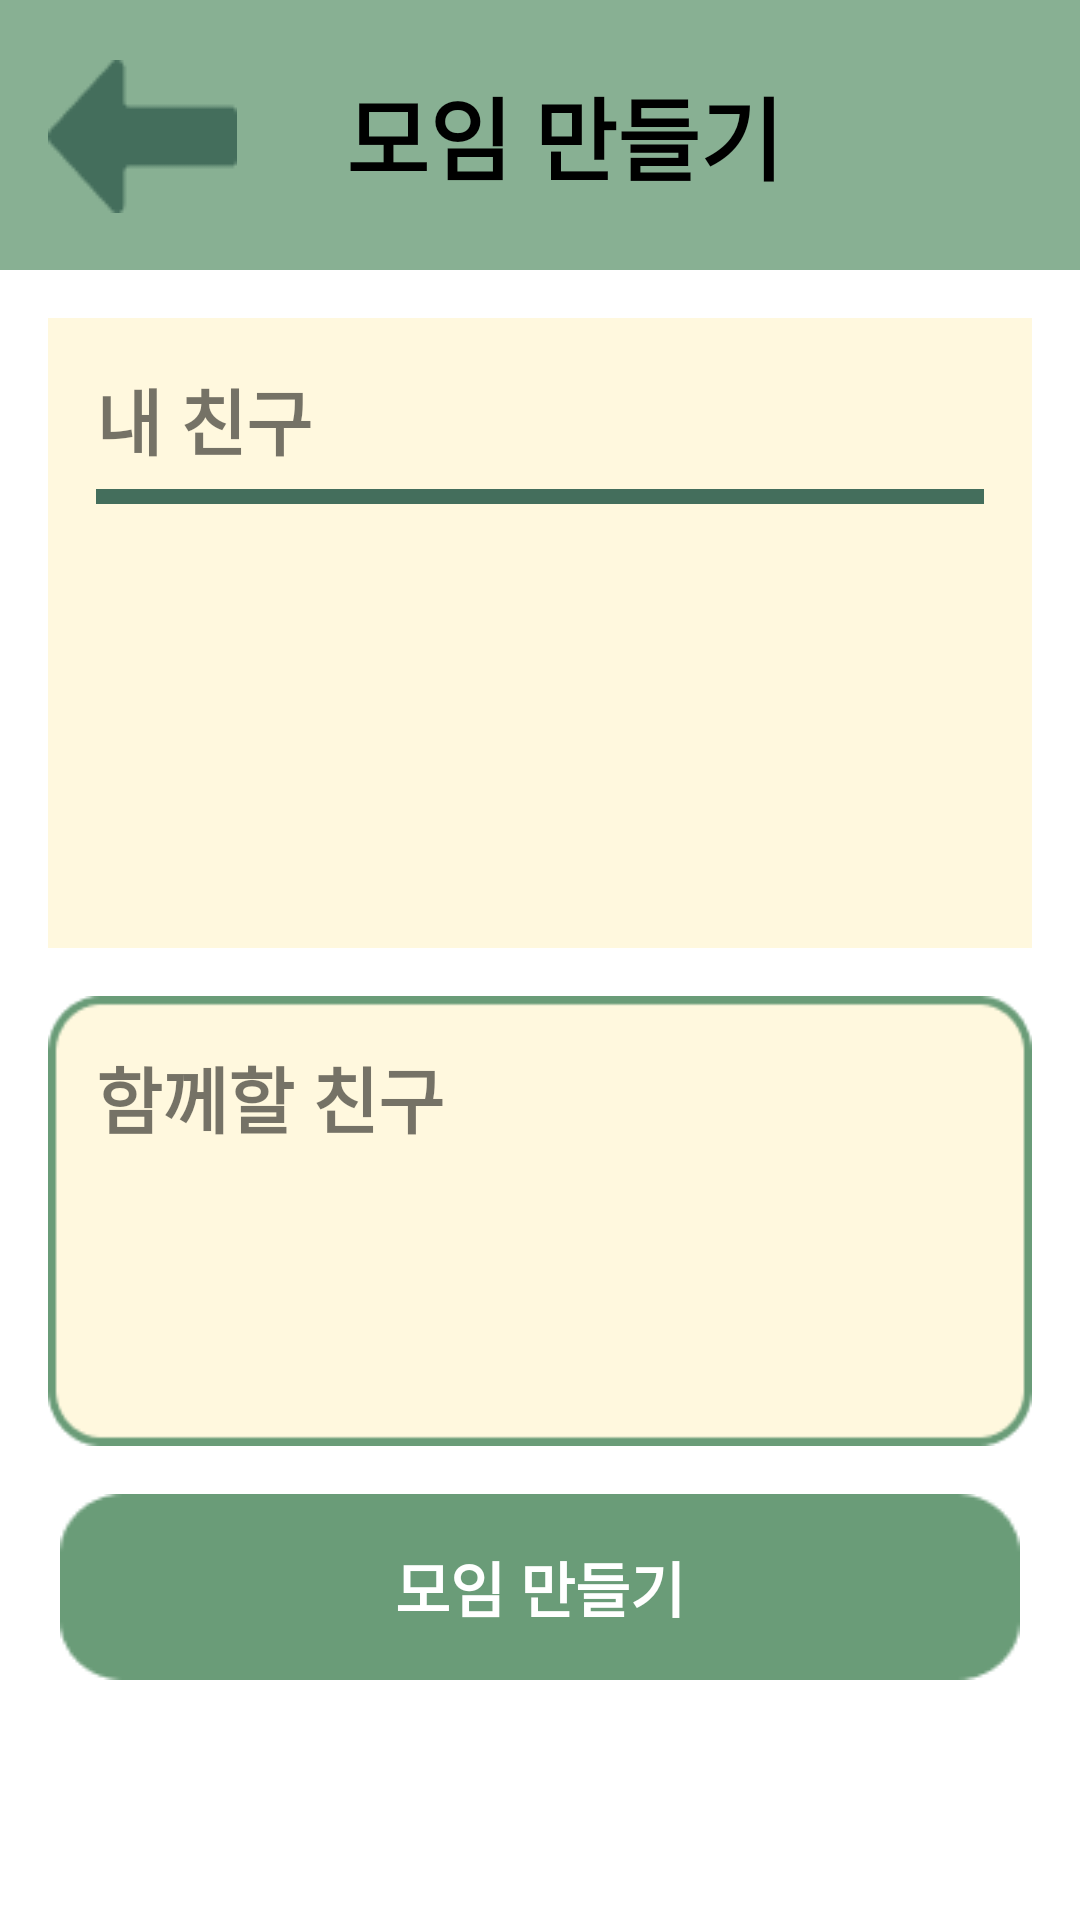

Named icons in this screenshot (1080w x 1920h) and their bounding boxes, (x1, y1, x2, y2):
back 버튼: (48, 60, 237, 213)
